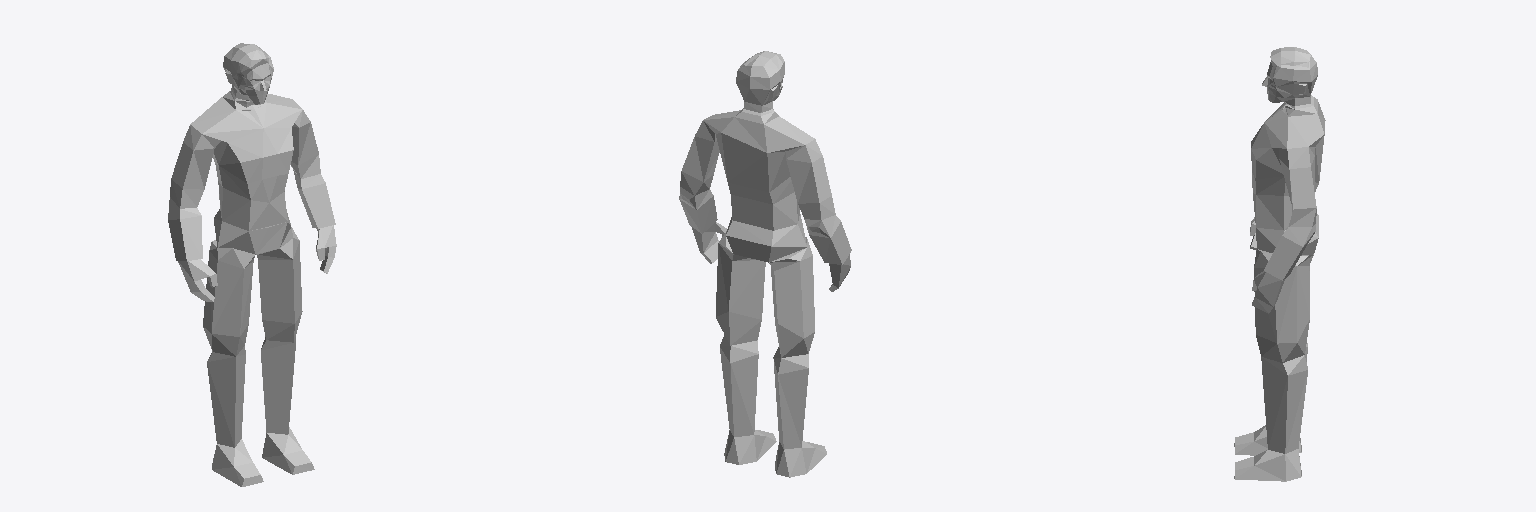
The model's file is Manuel12.obj.
The picture shows the model from 3 angles: view 1: azimuth 30°, elevation 25°; view 2: azimuth 150°, elevation 25°; view 3: azimuth 270°, elevation 25°; orthographic projection.
Visible parts, largest first — view 1: leon; view 2: leon; view 3: leon.
Part boxes in pixels (left/top/right/bottom): leon: left=168, top=43, right=336, bottom=486; leon: left=679, top=51, right=851, bottom=477; leon: left=1234, top=47, right=1325, bottom=481.
Bounding box in the file's own units: 4.78 × 12.18 × 2.44.